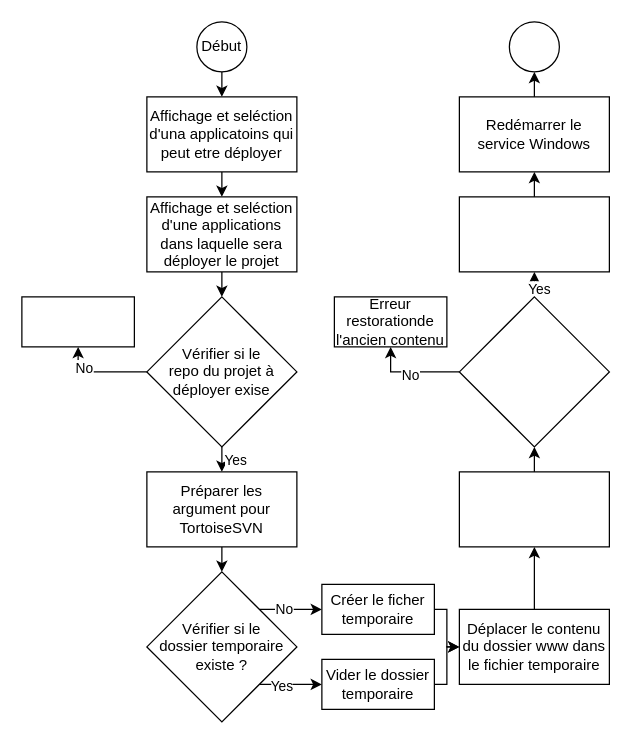
The diagram is 631 pixels wide and 744 high, and some of its shapes have lost their labels. Here are the shapes that lost their labels. From the top down, the centre of each, then its label:
(533,46): Fin
(533,234): Vider le ficheir temporaire
(77,321): Erreur aucun repo trouver
(533,371): Checkout SVN réussi ?
(533,509): Lancer un checkout SVN pour mettre déposer le code source
